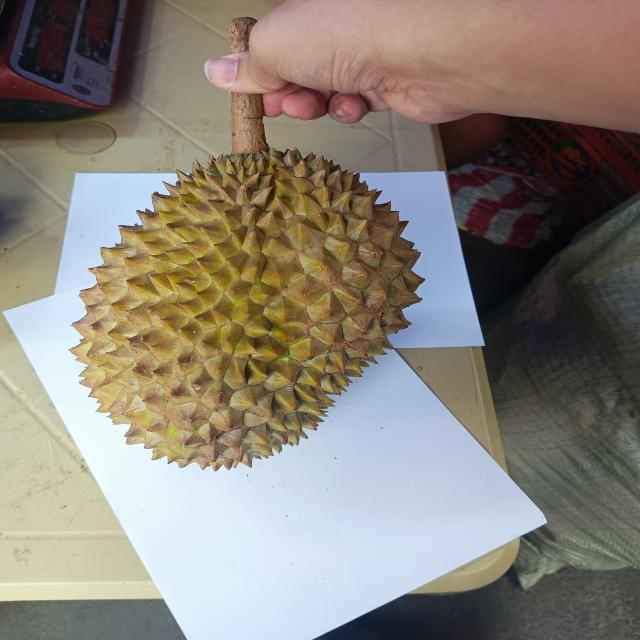mature: (70, 140, 423, 469)
